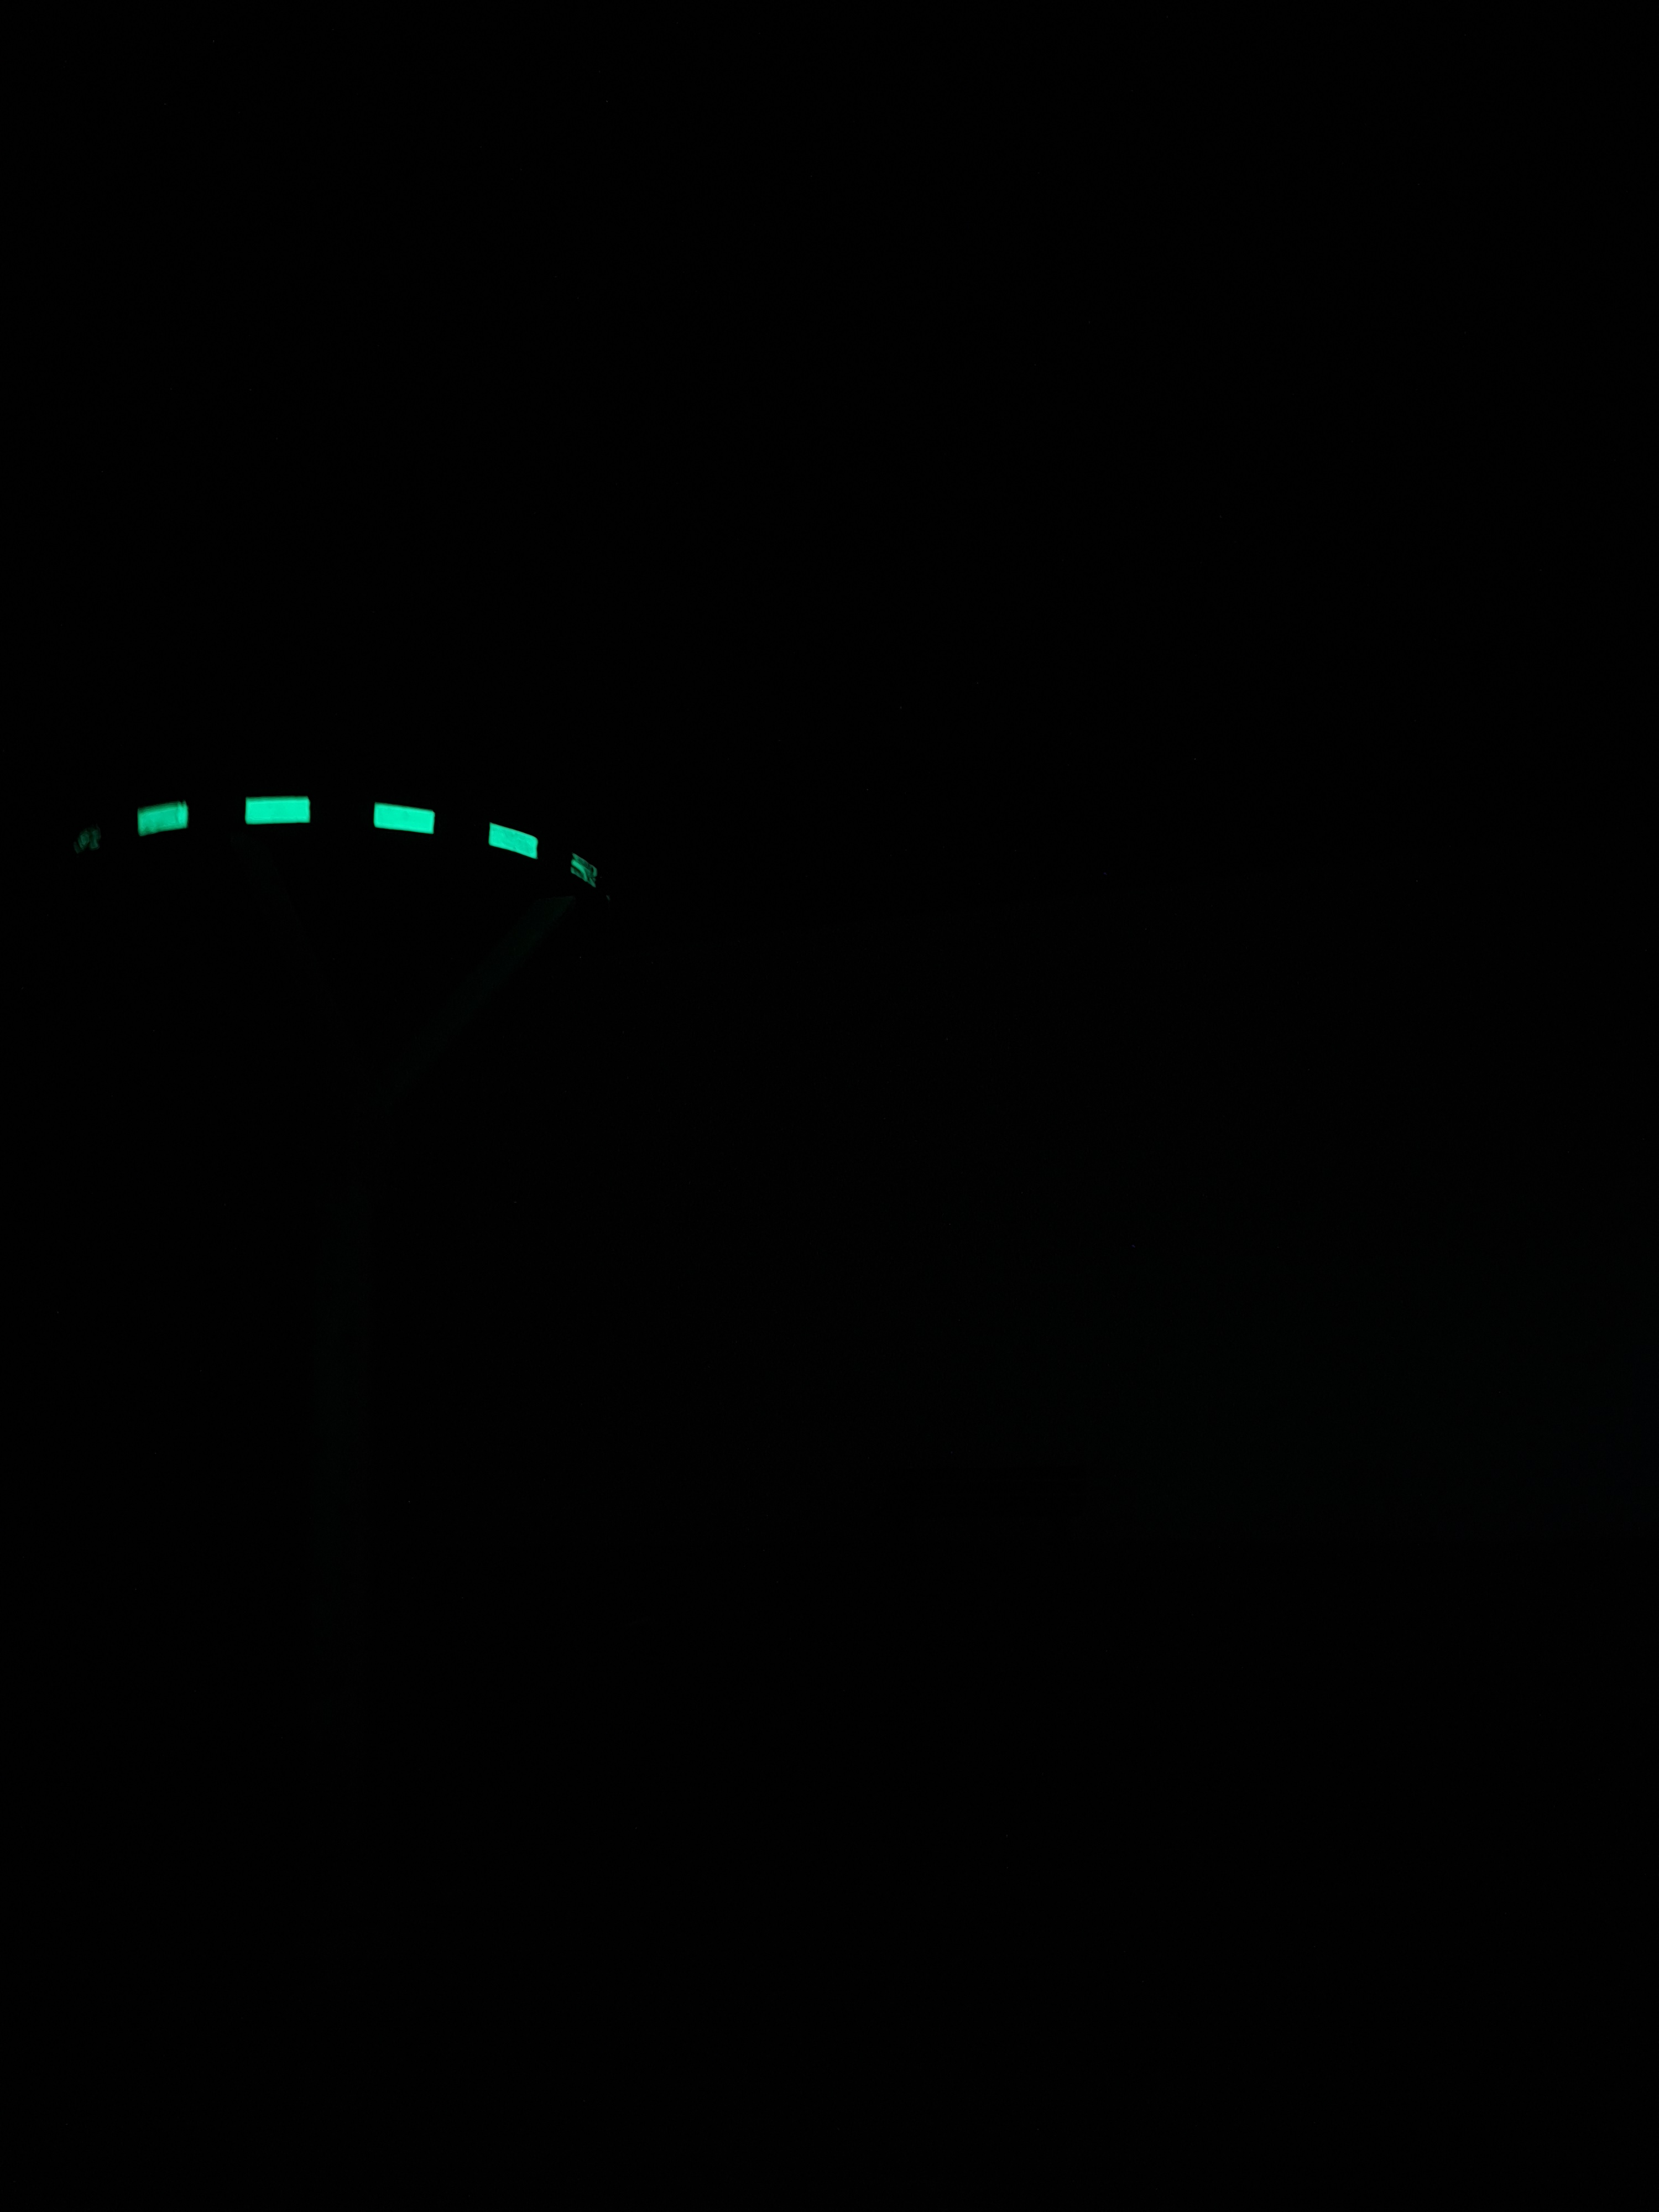hoop: (56, 792, 622, 900)
